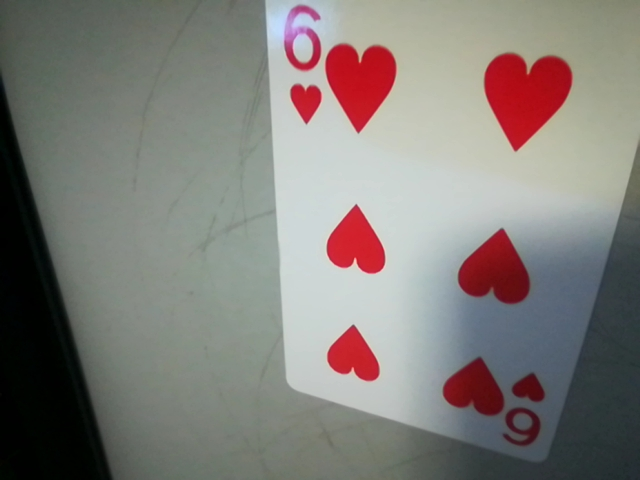hx 6: (270, 0, 329, 132)
